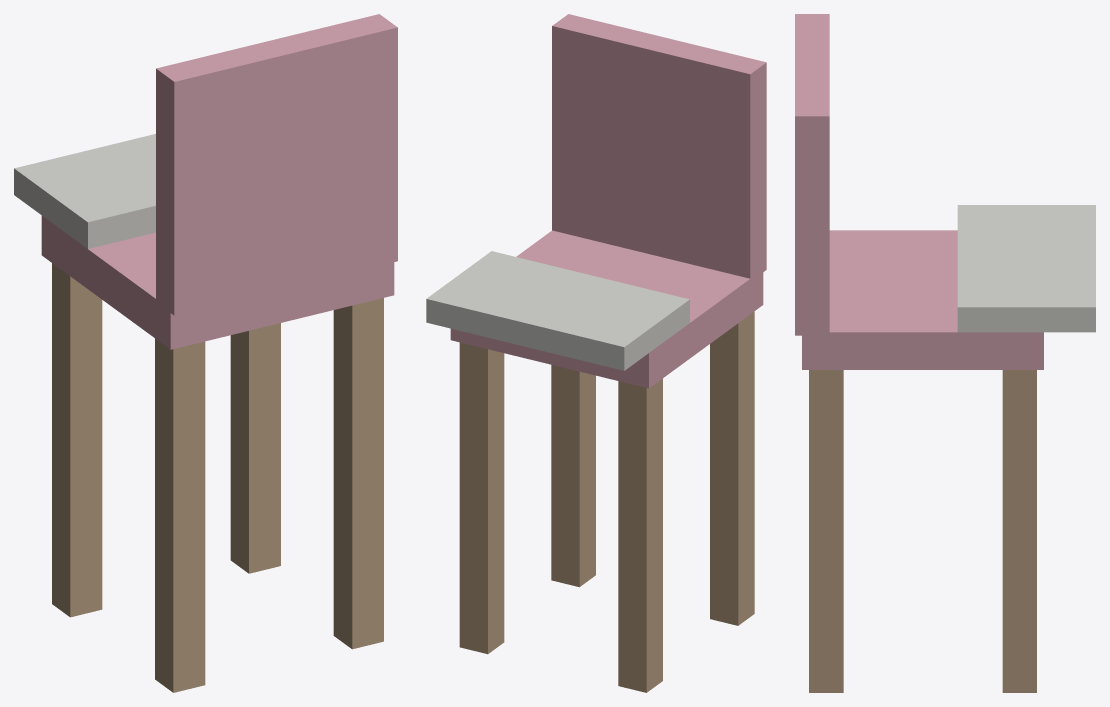
The model's file is kid_cadeira_ali.glb.
3 renders of one model, left to right at view 1: azimuth 30°, elevation 25°; view 2: azimuth 150°, elevation 25°; view 3: azimuth 270°, elevation 25°, orthographic. The views are drawn at different scales.
Visible parts, largest first — view 1: KID_CADEIRA_ALI_v01; view 2: KID_CADEIRA_ALI_v01; view 3: KID_CADEIRA_ALI_v01.
Part boxes in pixels (box(x1,y1,x2,y2)): KID_CADEIRA_ALI_v01: box(14, 14, 397, 692); KID_CADEIRA_ALI_v01: box(426, 14, 766, 692); KID_CADEIRA_ALI_v01: box(795, 14, 1095, 692).
Bounding box in the file's own units: 0.35 × 0.925 × 0.435.
